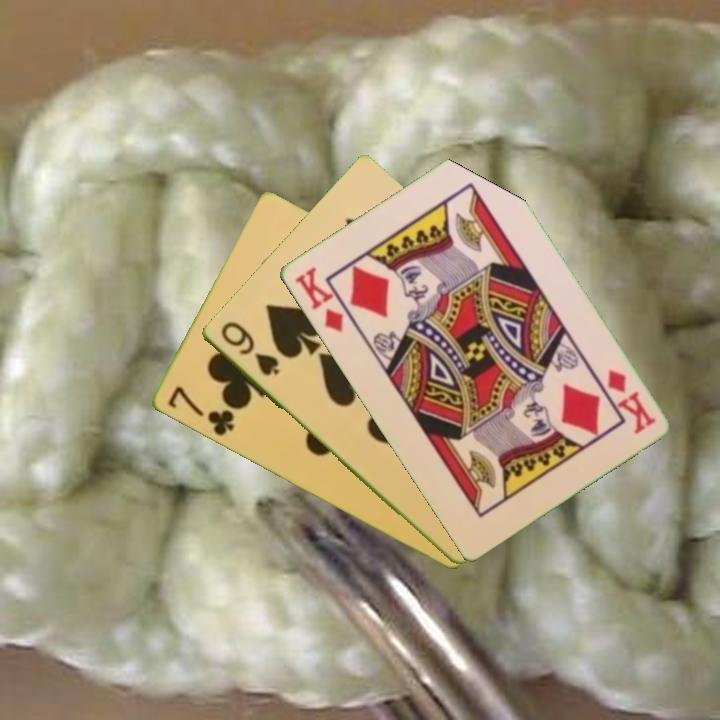7c: (163, 383, 237, 439)
9s: (216, 318, 282, 380)
Kd: (291, 263, 357, 336), (603, 365, 659, 437)
